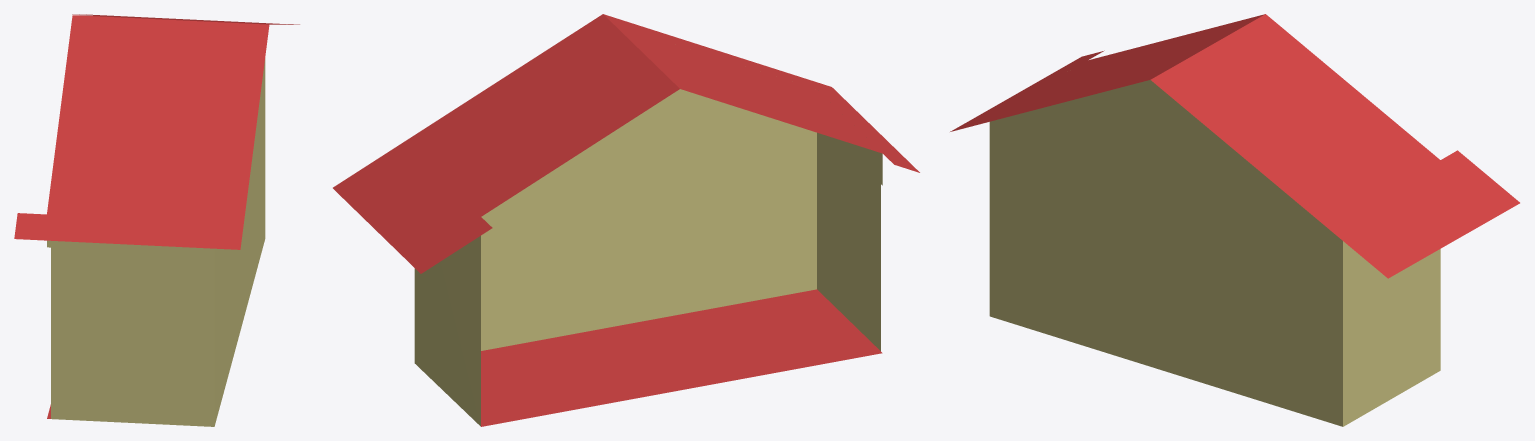
3 renders of one model, left to right at view 1: azimuth 30°, elevation 25°; view 2: azimuth 150°, elevation 25°; view 3: azimuth 270°, elevation 25°, orthographic. The views are drawn at different scales.
Bounding box in the file's own units: 17.45 × 19.79 × 11.55.
